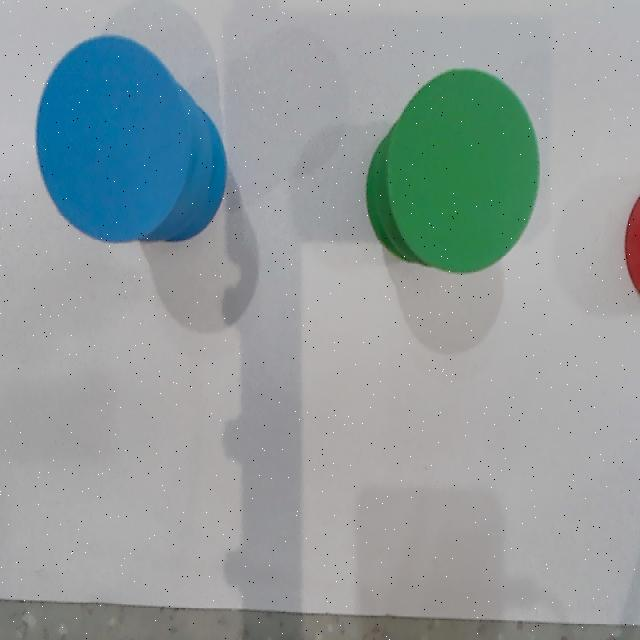b: (36, 36, 192, 242)
g: (388, 68, 540, 271)
